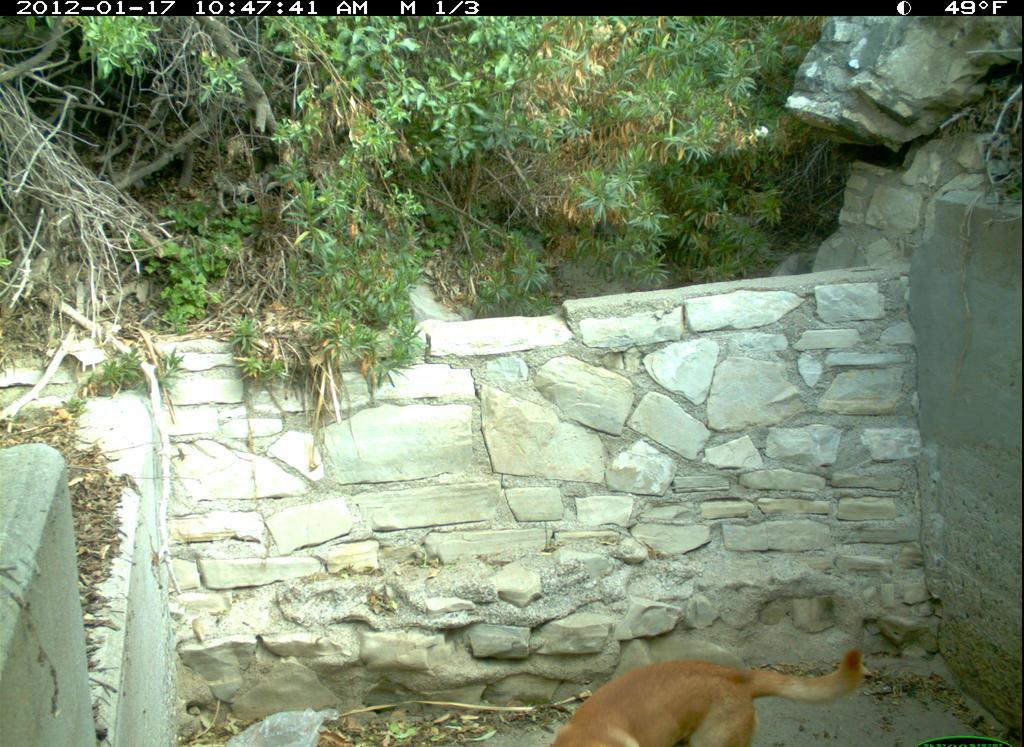dog: (530, 606, 884, 747)
